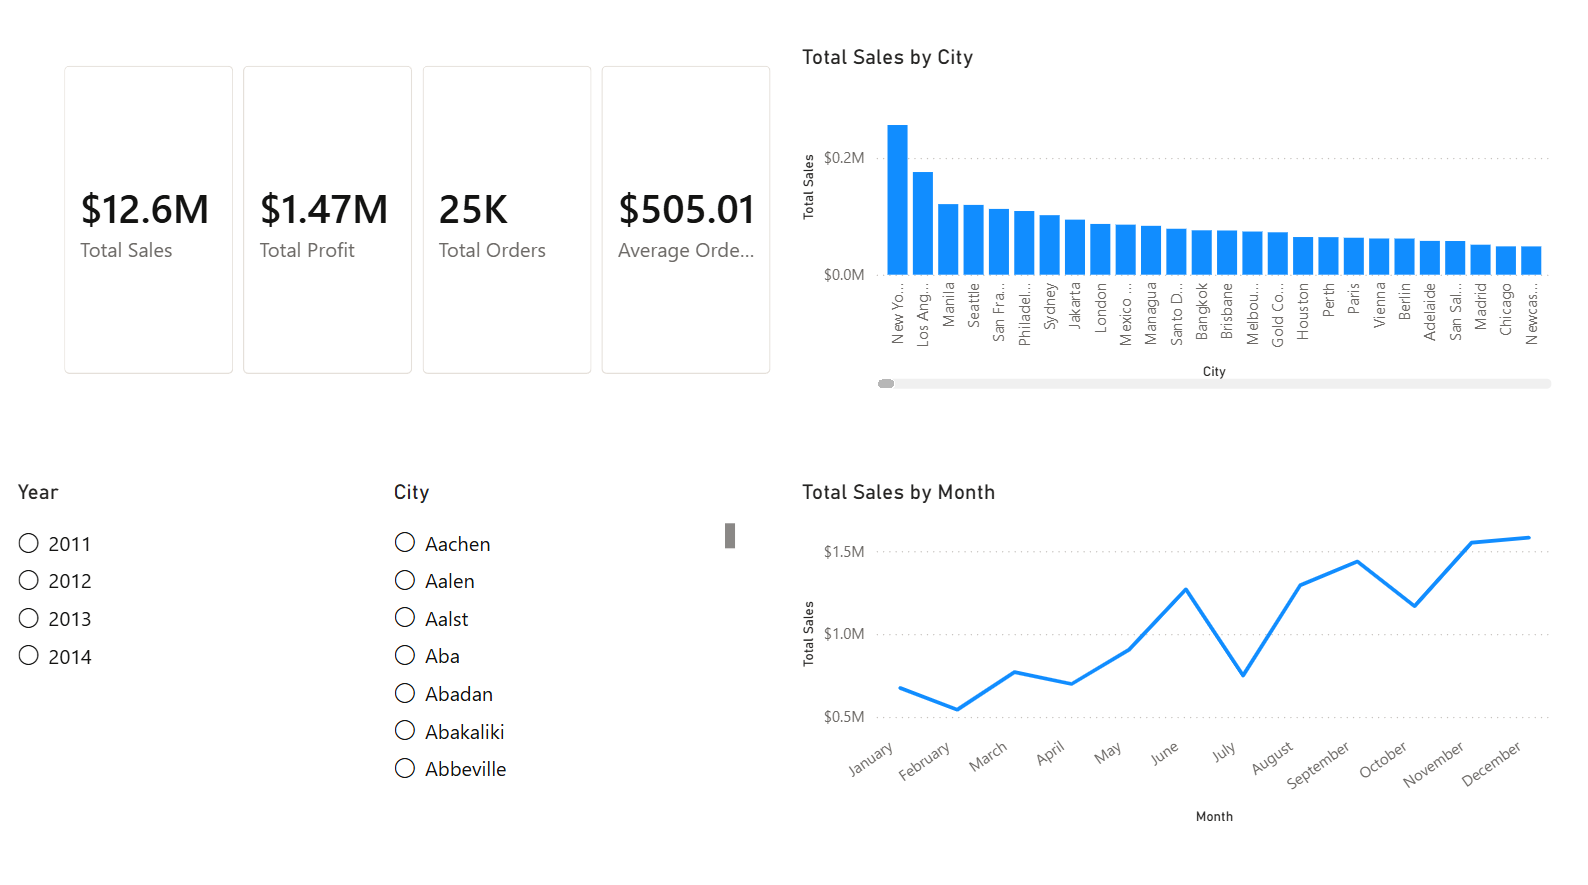

Layout of this report page (visuals, bound fields, positions):
{"tool":"powerbi","page":{"name":"Executive Summary","canvas":[1280,720],"ordinal":0},"visuals":[{"type":"cardVisual","fields":{"Data":["DAX_Measures.Total Sales","DAX_Measures.Total Profit","DAX_Measures.Total Orders","DAX_Measures.Average Order Value"]},"box":[39.5,43.1,600.9,280.1],"z":0},{"type":"lineChart","fields":{"Category":["DateTable.Month"],"Y":["DAX_Measures.Total Sales"]},"box":[640.4,390.2,608.1,280.1],"z":1000},{"type":"clusteredColumnChart","fields":{"Category":["Region.City"],"Y":["DAX_Measures.Total Sales"]},"box":[640.4,43.1,608.1,280.1],"z":2000},{"type":"listSlicer","fields":{"Values":["Region.City"]},"box":[314.8,390.2,282.5,246.6],"z":3000},{"type":"listSlicer","fields":{"Values":["DateTable.Year"]},"box":[14.4,390.2,280.1,246.6],"z":4000}]}

Visuals, with their boxes in screenshot pixels (x1, y1, x2, y2), scaled from the page's 1280x720 canvas onto the 1588x885 screenshot:
cardVisual - DAX_Measures.Total Sales x DAX_Measures.Total Profit: (49, 53, 794, 397)
lineChart - DateTable.Month x DAX_Measures.Total Sales: (794, 480, 1549, 824)
clusteredColumnChart - Region.City x DAX_Measures.Total Sales: (794, 53, 1549, 397)
listSlicer - Region.City: (391, 480, 741, 783)
listSlicer - DateTable.Year: (18, 480, 365, 783)
